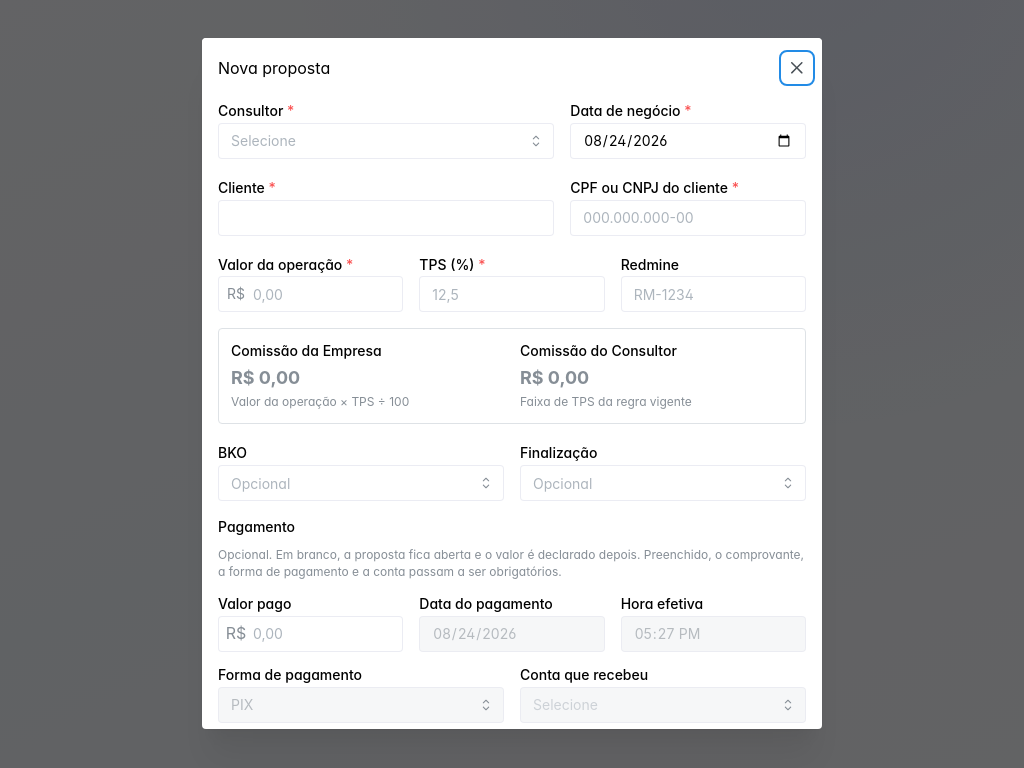
ProposalFormModal › recusa TPS acima de 100
In the field labelled "TPS (%) *": (512, 295) [419,277,605,313], type "101"
(page scrolled)
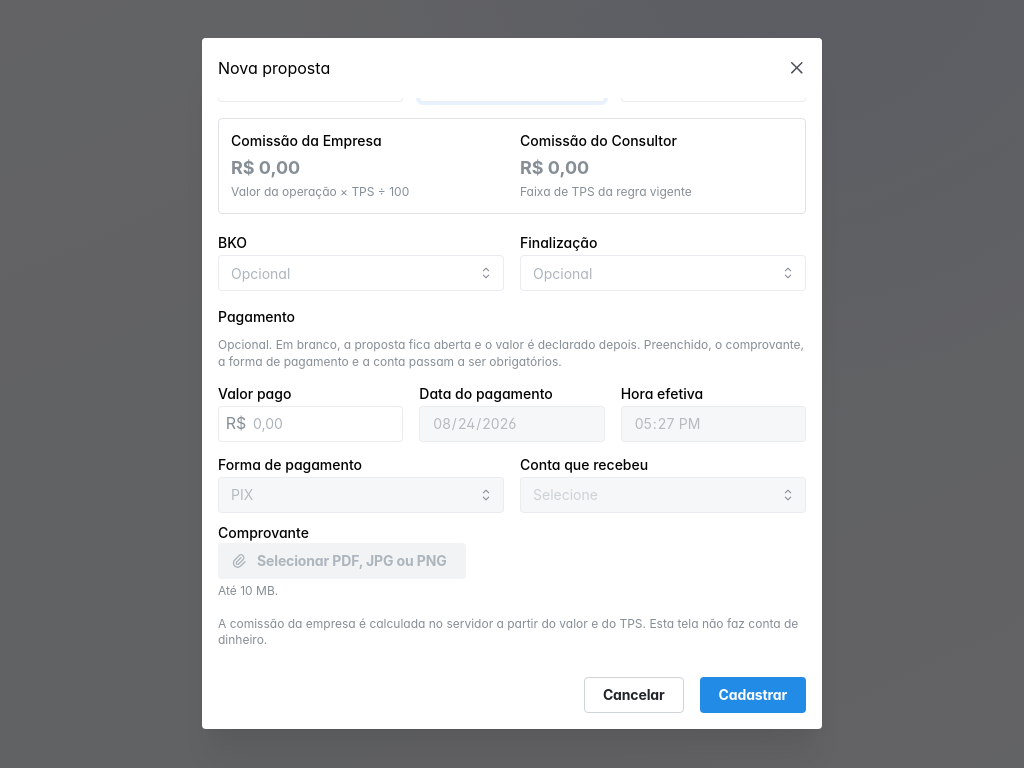
Click the button "Cadastrar": (753, 696) [700,678,806,714]
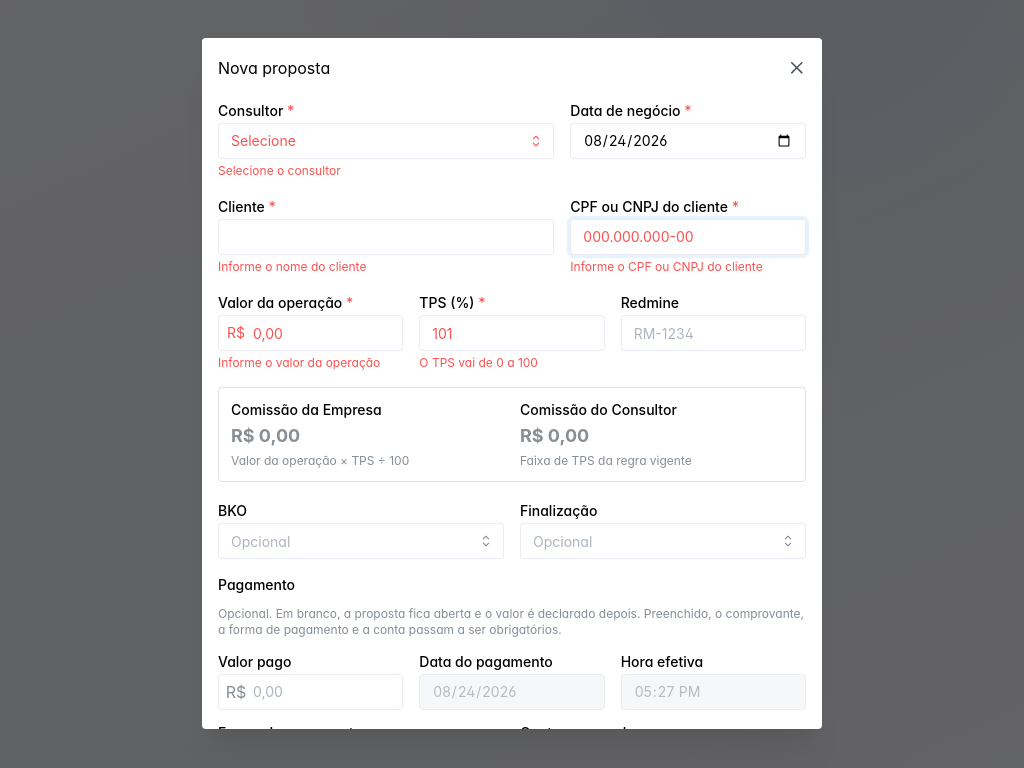
expect the text "O TPS vai de 0 a 100" is shown: met, box [419,356,538,371]
